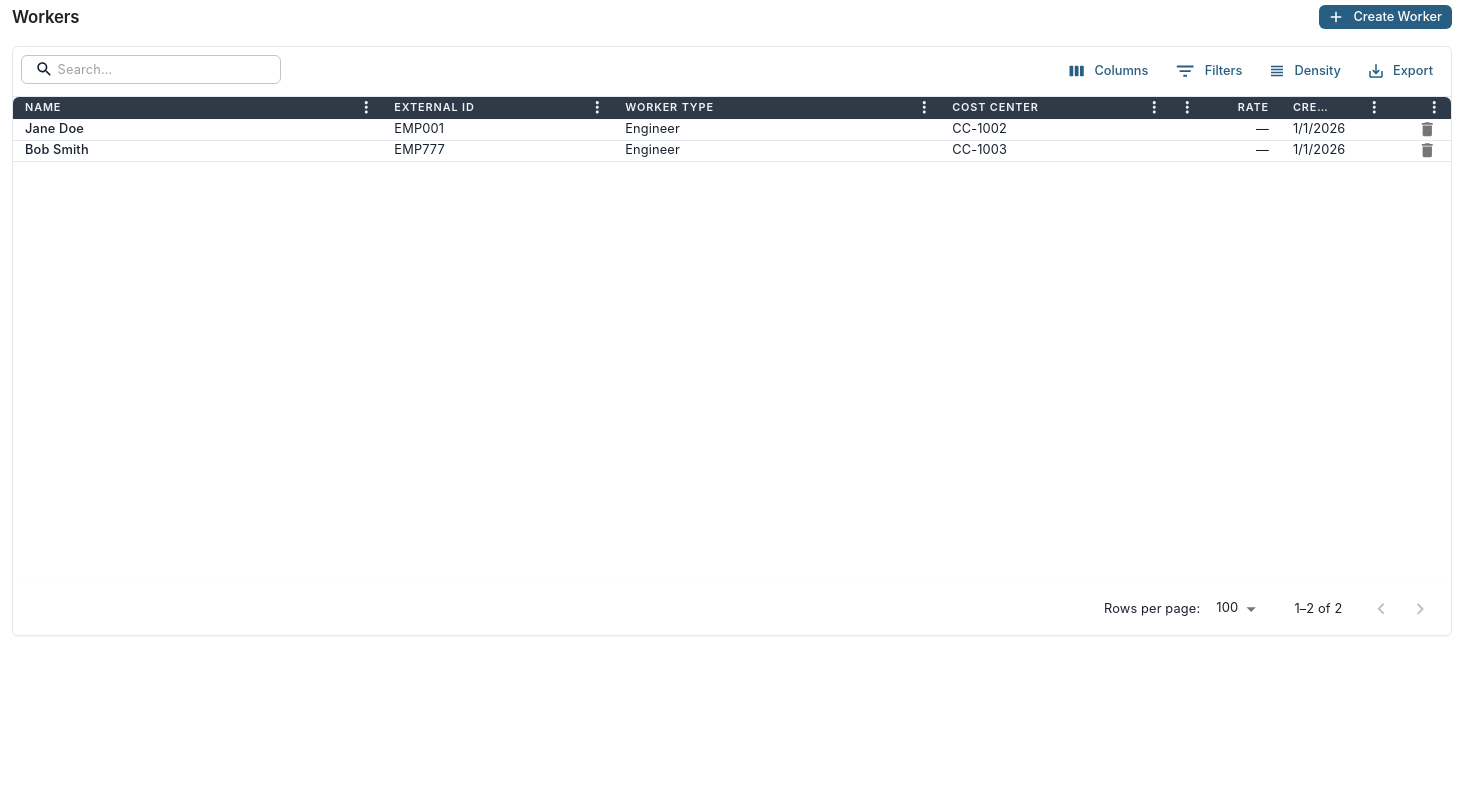
it: WorkersListPage (grid) › quick-filter matches the employee (external) ID
Expected: the text "Jane Doe" is shown, [25, 120, 84, 139]
Type "EMP777" into the search field with placeholder "Search…".
click(148, 69); type("EMP777")  # box [58, 55, 238, 84]
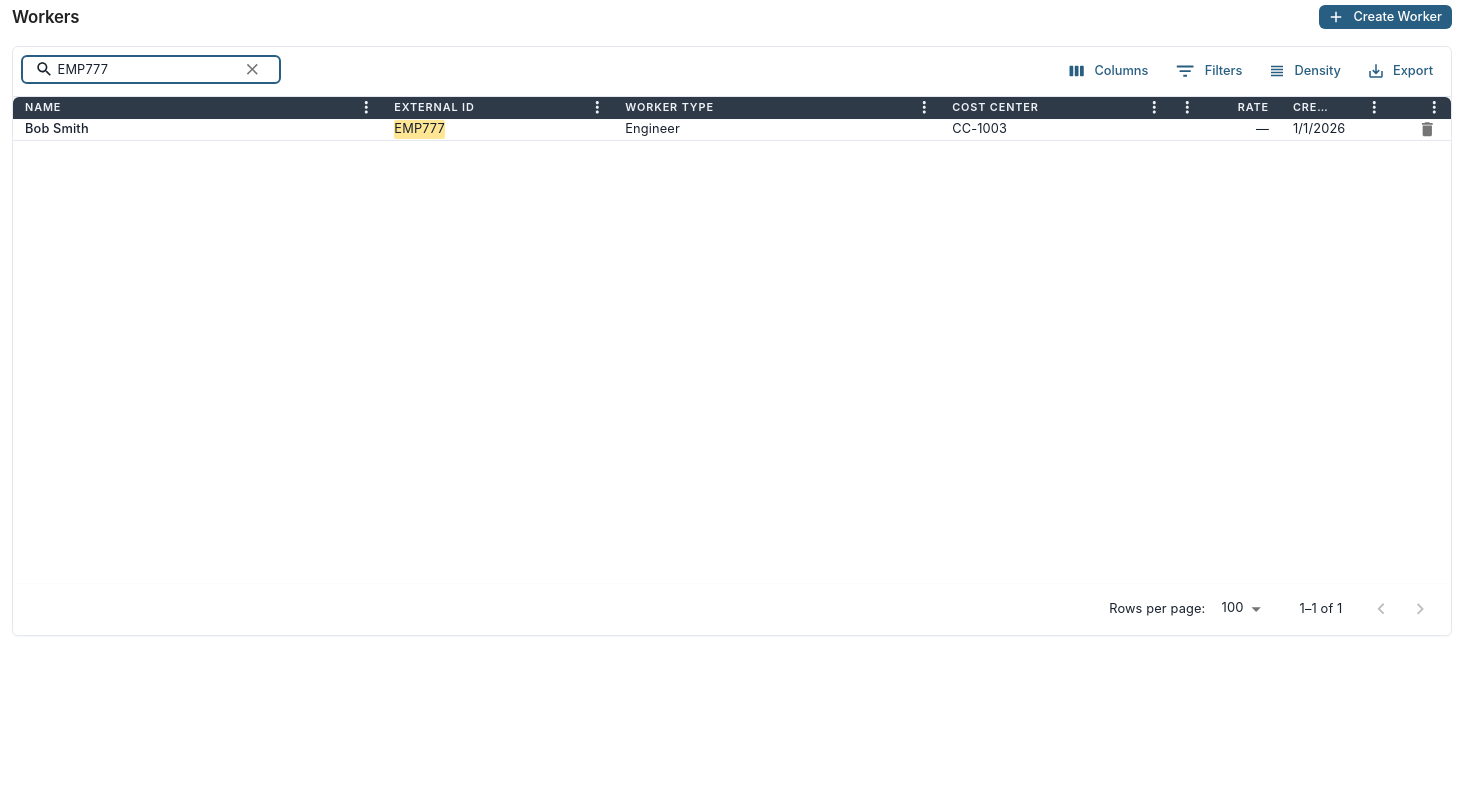
Expected: the text "Bob Smith" is shown, [25, 120, 89, 139]
Result: the text "Jane Doe" is gone
